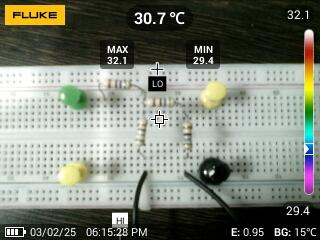resistor: (143, 93, 178, 111), (132, 113, 149, 148), (102, 77, 134, 93), (180, 120, 195, 153)
